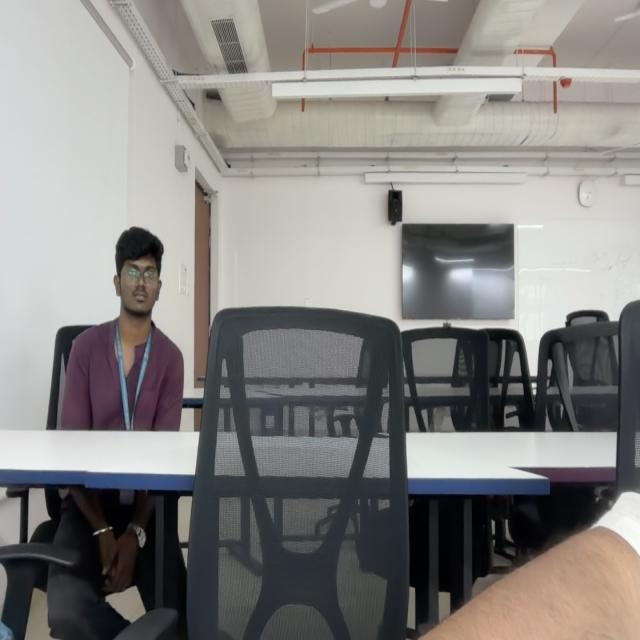ravindra: (113, 226, 163, 320)
